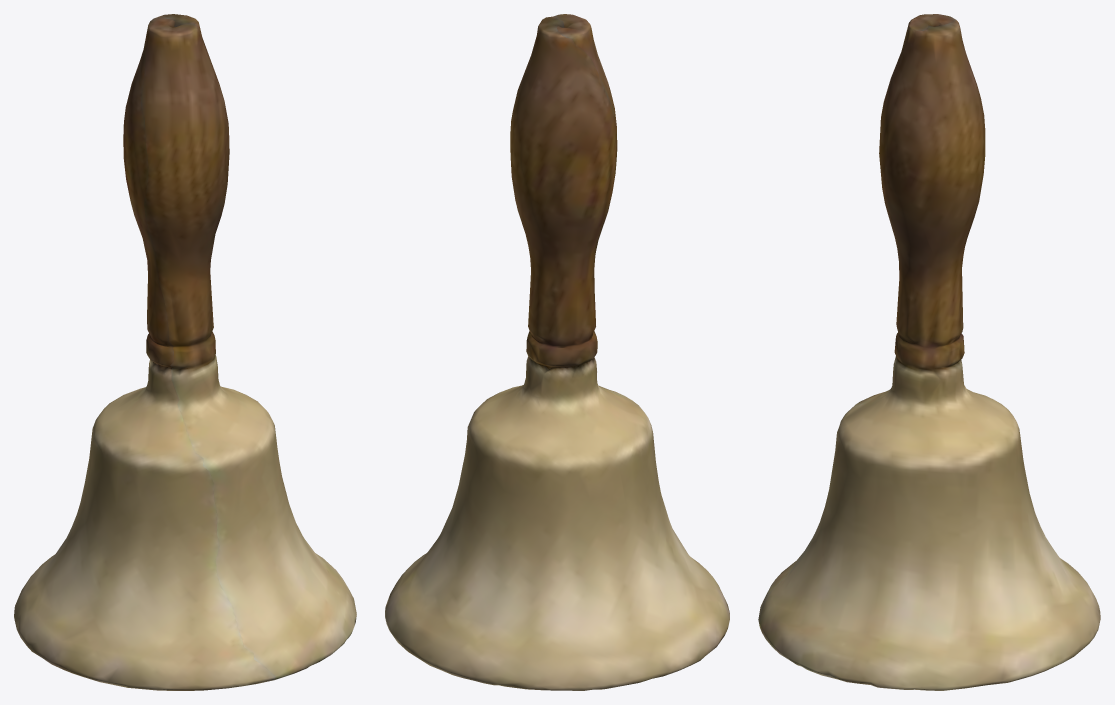
Rendered from Cole_Hardware_School_Bell_Solid_Brass_38-high.glb.
The picture shows the model from 3 angles, left to right: view 1: azimuth 30°, elevation 25°; view 2: azimuth 150°, elevation 25°; view 3: azimuth 270°, elevation 25°; orthographic projection.
Parts seen in each view (by area): view 1: Cole_Hardware_School_Bell_Solid_Brass_38; view 2: Cole_Hardware_School_Bell_Solid_Brass_38; view 3: Cole_Hardware_School_Bell_Solid_Brass_38.
Boxes of the visible parts, x1,y1,x2,y2 form: Cole_Hardware_School_Bell_Solid_Brass_38: (14,14,356,690); Cole_Hardware_School_Bell_Solid_Brass_38: (385,14,729,690); Cole_Hardware_School_Bell_Solid_Brass_38: (758,14,1100,690).
Size of the model in its own units: 0.083 by 0.1596 by 0.083.
1 material, 1 textured.
